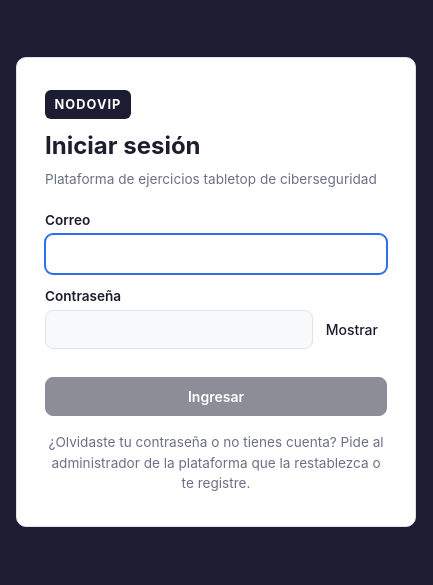
Test case: LoginPage › sin conexión muestra un mensaje claro
Type "ana@example.com" into the field labelled "Correo". click: [216, 254]
box: x1=45 y1=234 x2=387 y2=274
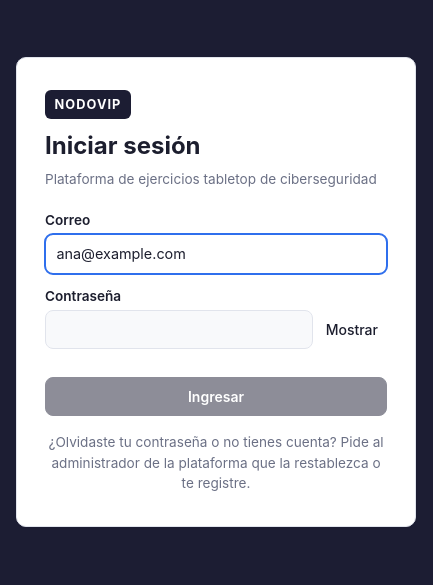
Type "x" into the password field labelled "Contraseña". click: [179, 330]
box: x1=45 y1=310 x2=313 y2=350
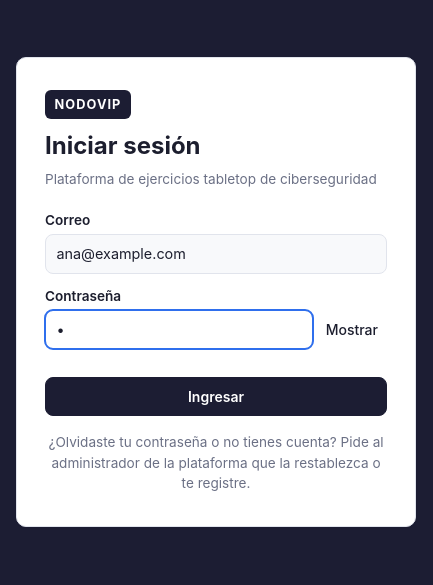
Click the button "Ingresar". click: [216, 397]
box: x1=45 y1=378 x2=387 y2=416
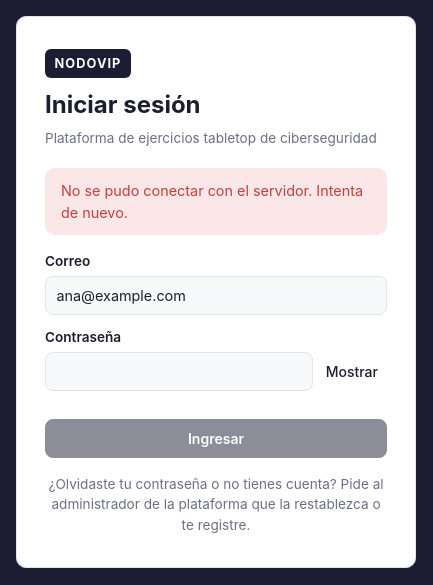
expect the message shows "No se pudo conectar": met, box x1=61 y1=182 x2=363 y2=220
